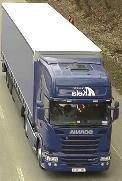truck: (2, 3, 119, 174)
